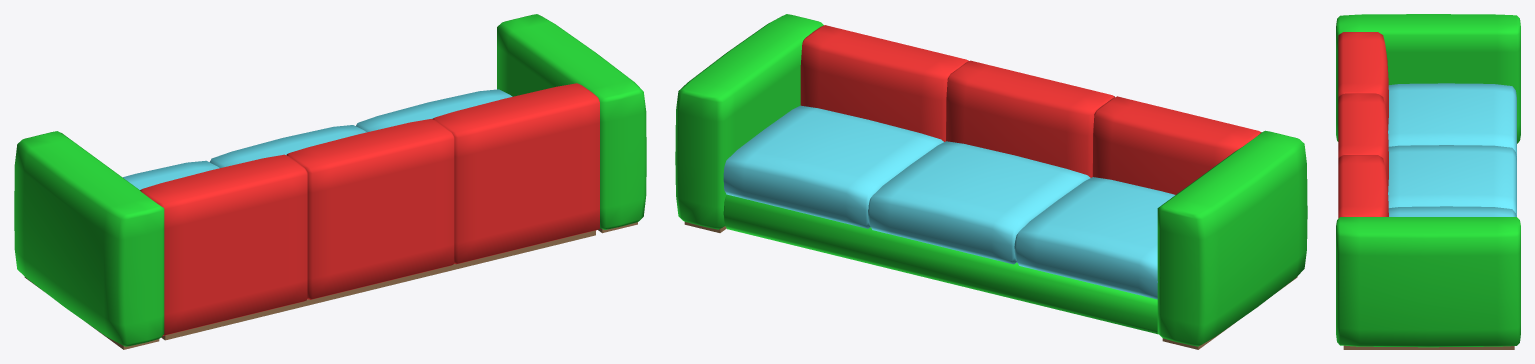
The model's file is sofa_4.FBX.
The picture shows the model from 3 angles, left to right: view 1: azimuth 30°, elevation 25°; view 2: azimuth 150°, elevation 25°; view 3: azimuth 270°, elevation 25°; orthographic projection. The views are drawn at different scales.
Parts seen in each view (by area): view 1: sofa_4; view 2: sofa_4; view 3: sofa_4.
Part boxes in pixels (x1=…): sofa_4: x1=14, y1=14, x2=646, y2=349; sofa_4: x1=675, y1=14, x2=1307, y2=349; sofa_4: x1=1336, y1=14, x2=1520, y2=349.
Bounding box in the file's own units: 2.73 × 0.6659 × 0.9459.
